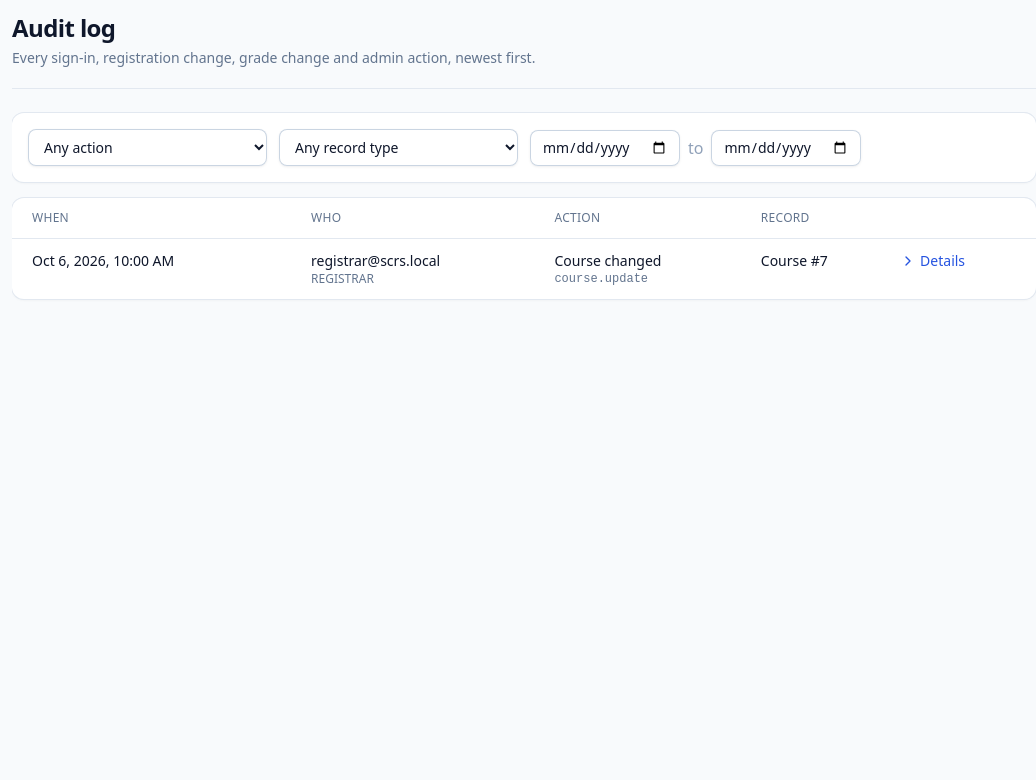
AuditLog › opens the details to readable before/after lines, with "changed" for text the server keeps out of the log
Click the button "Details" at (933,261), box x1=900 y1=251 x2=965 y2=271
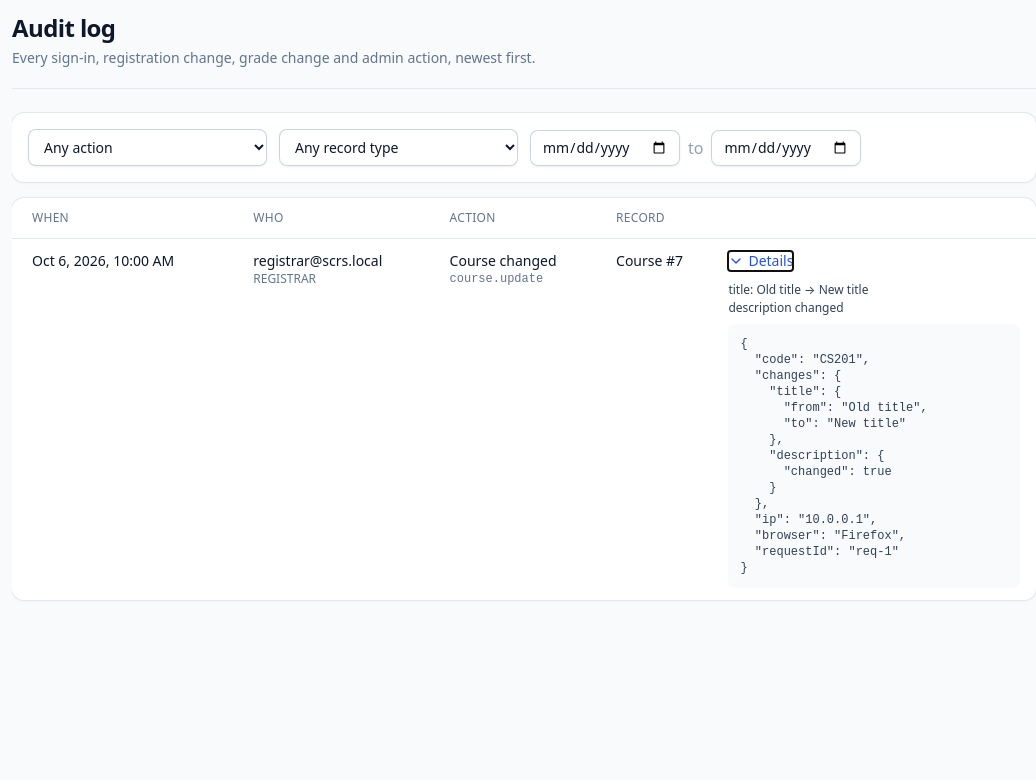
Result: the list item "title: Old title → New title" is shown at x1=728 y1=281 x2=868 y2=298
Result: the list item "description changed" is shown at x1=728 y1=299 x2=844 y2=316
